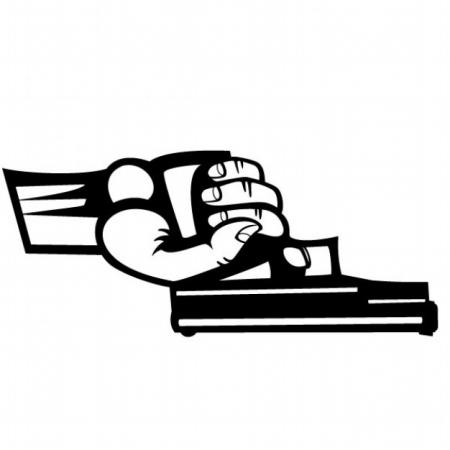Pistol: (143, 146, 441, 340)
